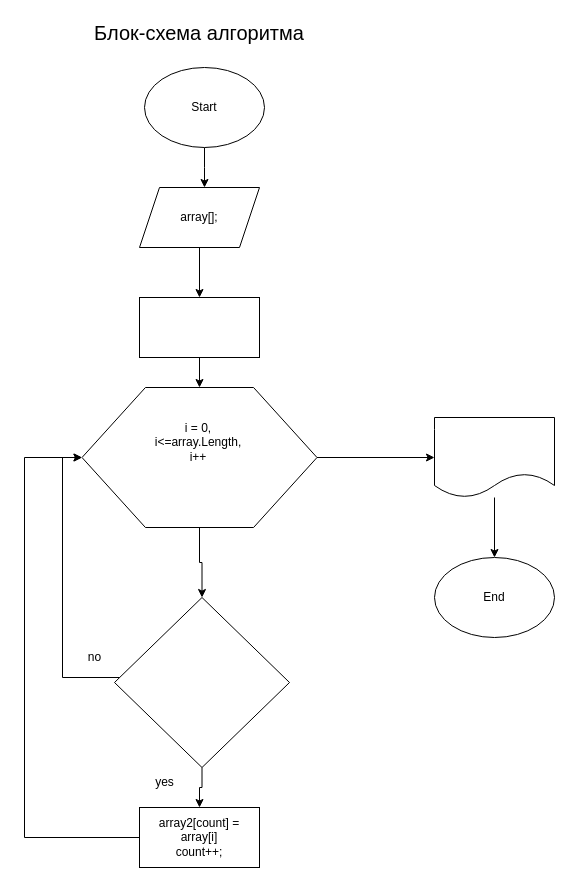
This 572x885 diagram has some shape labels left out. The shapes that lost their labels are listed below. From the top down, each one's centre as x and y in pixels, then its label:
At point 199,327: "count = 0;".
At point 494,457: "array2[count]".
At point 202,682: "array[i] <= 3?".
